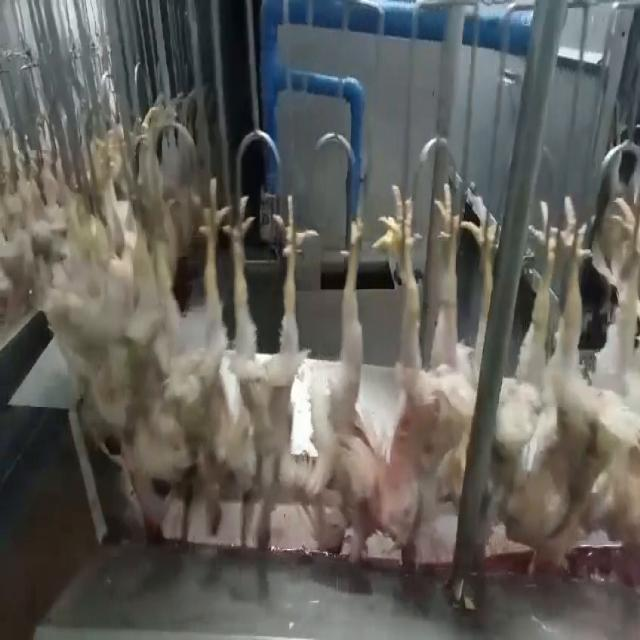chicken: (366, 184, 471, 570), (264, 198, 364, 555), (498, 203, 585, 576), (174, 183, 247, 536), (582, 196, 638, 582), (115, 189, 173, 530)
